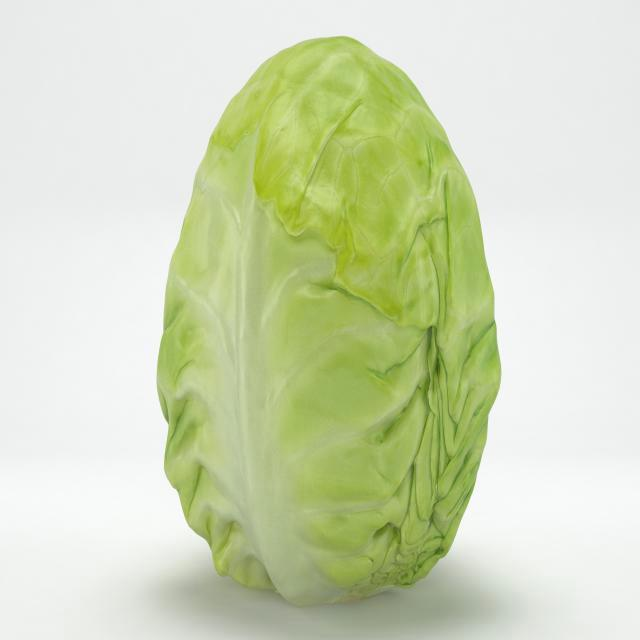cabbage: (148, 35, 504, 606)
